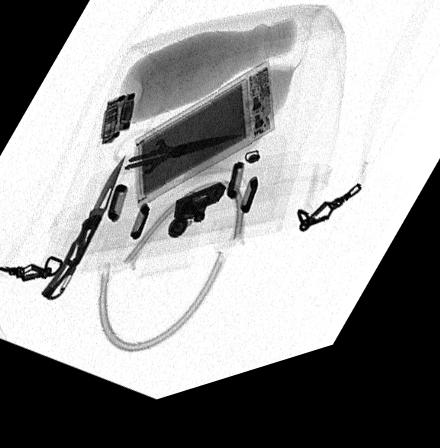Knife: (39, 158, 126, 304)
Powerbank: (134, 71, 275, 220)
Scissors: (97, 135, 244, 214)
